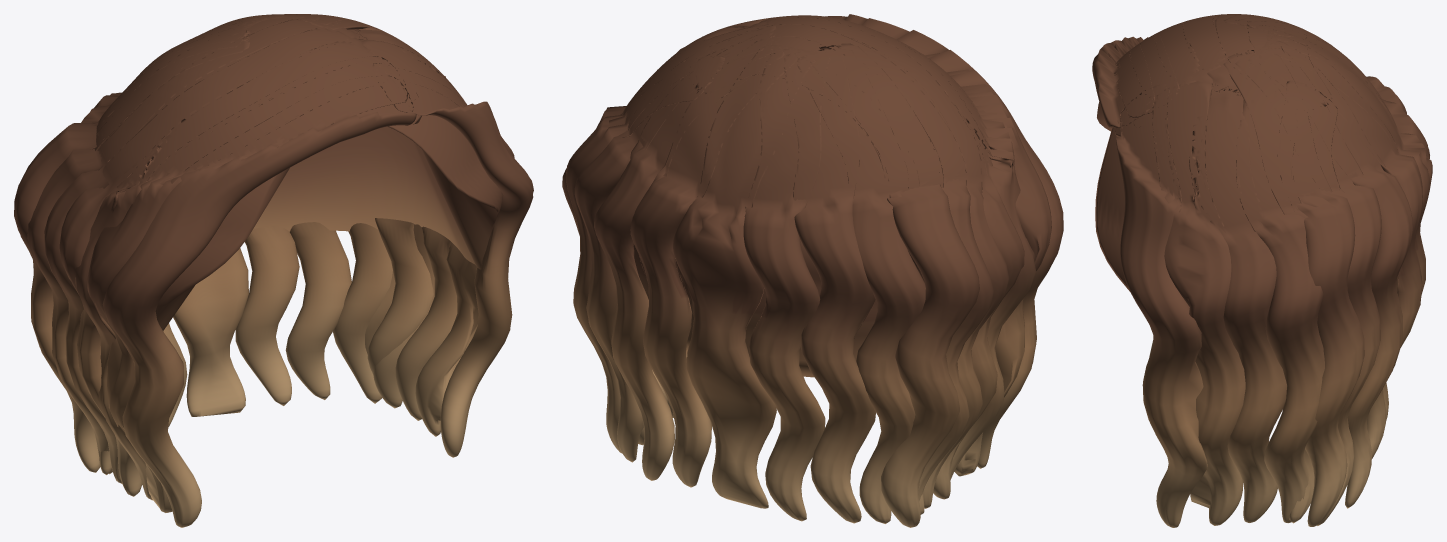
The model's file is Ombre-0ff990406713253-hair.glb.
The picture shows the model from 3 angles, left to right: view 1: azimuth 30°, elevation 25°; view 2: azimuth 150°, elevation 25°; view 3: azimuth 270°, elevation 25°; orthographic projection. The views are drawn at different scales.
Visible parts, largest first — view 1: 226 hair / Hair / sculpted 0.004, 226 hair / Hair / sculpted 1.008, 226 hair / Hair / sculpted 2.004, 226 hair / Hair / sculpted 1.007; view 2: 226 hair / Hair / sculpted 0.004, 226 hair / Hair / sculpted 2.004, 226 hair / Hair / sculpted 1.008, 226 hair / Hair / sculpted 1.007; view 3: 226 hair / Hair / sculpted 1.008, 226 hair / Hair / sculpted 2.004, 226 hair / Hair / sculpted 0.004, 226 hair / Hair / sculpted 1.007.
Part boxes in pixels (bbox=[...]): 226 hair / Hair / sculpted 0.004: bbox=[14, 14, 457, 527]; 226 hair / Hair / sculpted 1.008: bbox=[44, 14, 533, 512]; 226 hair / Hair / sculpted 2.004: bbox=[27, 14, 514, 500]; 226 hair / Hair / sculpted 1.007: bbox=[155, 115, 503, 330]; 226 hair / Hair / sculpted 0.004: bbox=[594, 14, 1063, 527]; 226 hair / Hair / sculpted 2.004: bbox=[566, 15, 1036, 523]; 226 hair / Hair / sculpted 1.008: bbox=[562, 15, 1051, 523]; 226 hair / Hair / sculpted 1.007: bbox=[633, 239, 877, 377]; 226 hair / Hair / sculpted 1.008: bbox=[1108, 14, 1422, 527]; 226 hair / Hair / sculpted 2.004: bbox=[1129, 14, 1432, 526]; 226 hair / Hair / sculpted 0.004: bbox=[1092, 14, 1429, 522]; 226 hair / Hair / sculpted 1.007: bbox=[1095, 102, 1398, 291].
Bounding box in the file's own units: 1.13 × 1.09 × 0.7898.
Materials: 4 (4 with a texture image).
